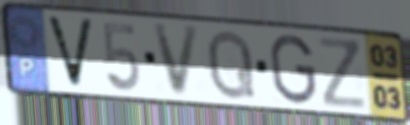5: (100, 20, 142, 93)
G: (268, 32, 319, 107)
Q: (206, 27, 258, 102)
V: (43, 13, 97, 91), (150, 23, 203, 99)
Z: (316, 35, 370, 112)
